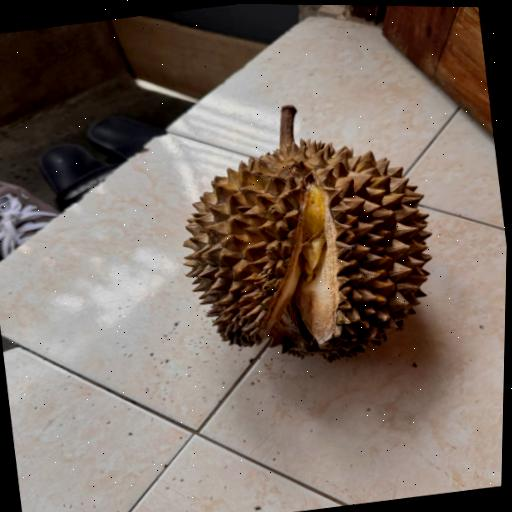rot: (145, 64, 465, 393)
